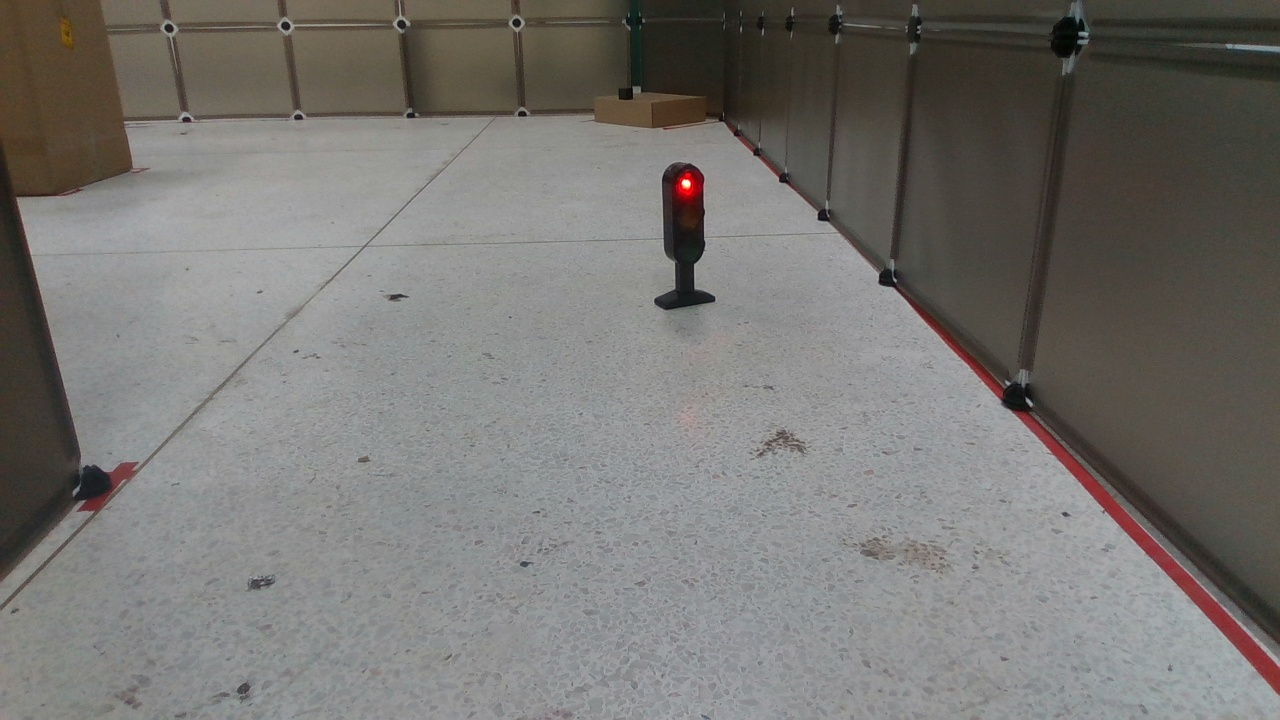Red traffic light: (654, 160, 715, 312)
